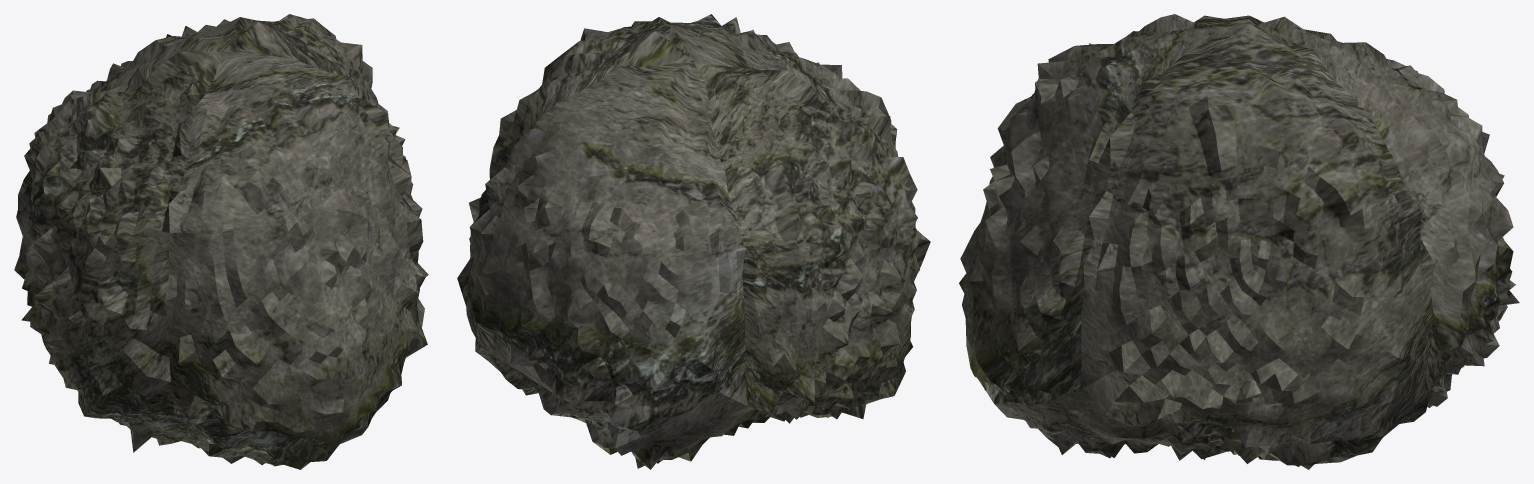
Rendered from Rock7.fbx.
The picture shows the model from 3 angles, left to right: view 1: azimuth 30°, elevation 25°; view 2: azimuth 150°, elevation 25°; view 3: azimuth 270°, elevation 25°; orthographic projection. The views are drawn at different scales.
Visible parts, largest first — view 1: rock.010; view 2: rock.010; view 3: rock.010.
Boxes of the visible parts, left/top/right/bottom form: rock.010: left=14, top=14, right=428, bottom=469; rock.010: left=457, top=14, right=930, bottom=469; rock.010: left=959, top=14, right=1519, bottom=469.
Bounding box in the file's own units: 101 × 101 × 114.
